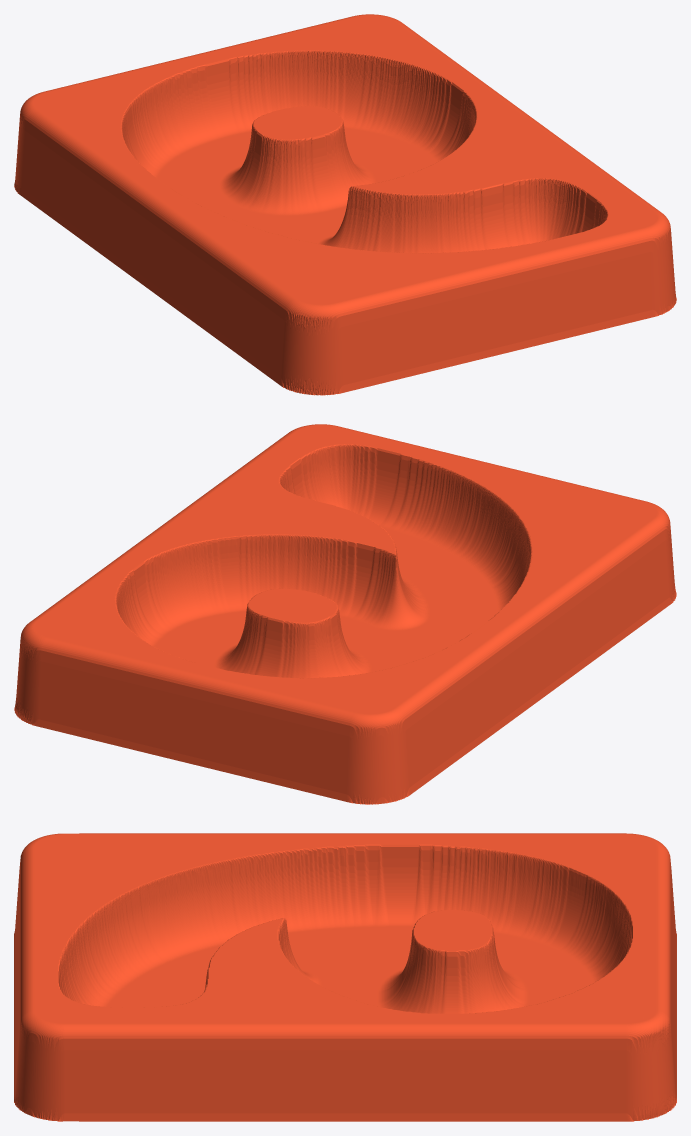
Rendered from mold.glb.
3 views of the same model, one above another, from view 1: azimuth 30°, elevation 25°; view 2: azimuth 150°, elevation 25°; view 3: azimuth 270°, elevation 25° (orthographic). The views are drawn at different scales.
Parts seen in each view (by area): view 1: geometry_0; view 2: geometry_0; view 3: geometry_0.
Part boxes in pixels (<box>): geometry_0: <box>14,14,676,395</box>; geometry_0: <box>14,424,676,804</box>; geometry_0: <box>14,833,676,1121</box>.
Size of the model in its own units: 0.0866 by 0.0175 by 0.1178.
